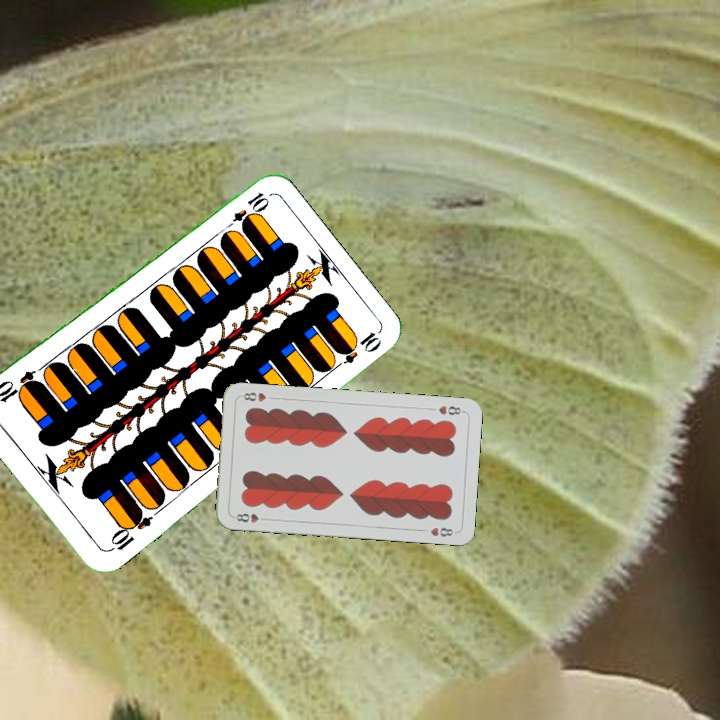E10: (104, 506, 154, 555), (220, 188, 271, 235)
H8: (230, 509, 270, 525), (434, 402, 466, 417)
